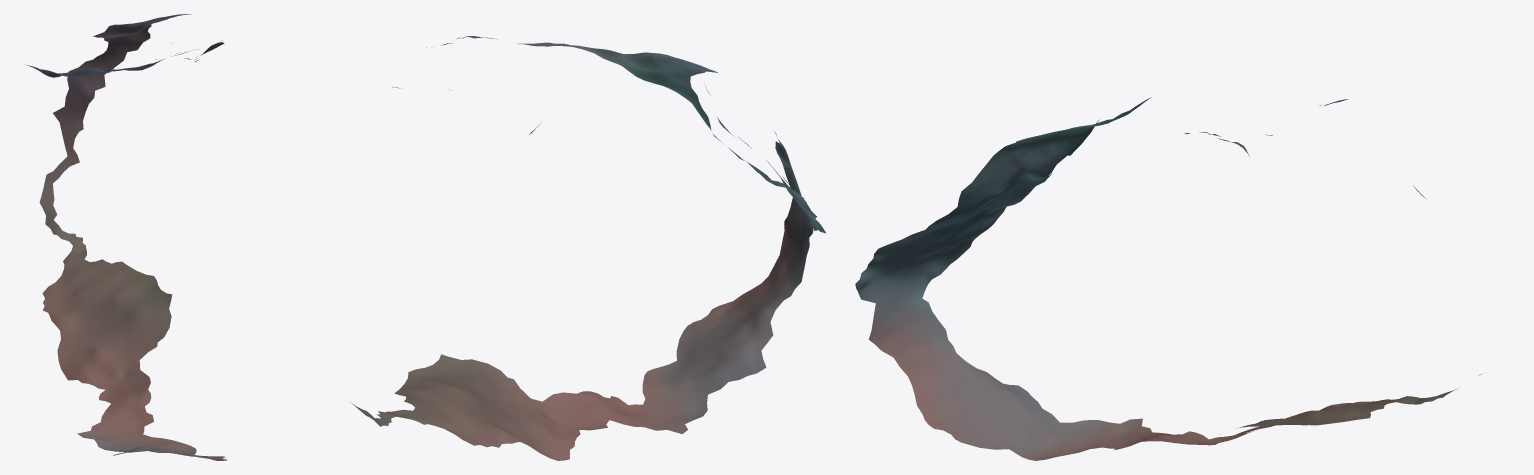
Rendered from LODS_Cloud_global_9.glb.
3 renders of one model, left to right at view 1: azimuth 30°, elevation 25°; view 2: azimuth 150°, elevation 25°; view 3: azimuth 270°, elevation 25°, orthographic. The views are drawn at different scales.
Visible parts, largest first — view 1: LOD0; view 2: LOD0; view 3: LOD0.
Part boxes in pixels (left/top/right/bottom): LOD0: left=27, top=14, right=227, bottom=460; LOD0: left=350, top=36, right=826, bottom=460; LOD0: left=855, top=97, right=1482, bottom=460.
Size of what is drawn, in the model's own units: 0.2471 by 0.2863 by 0.4364.
